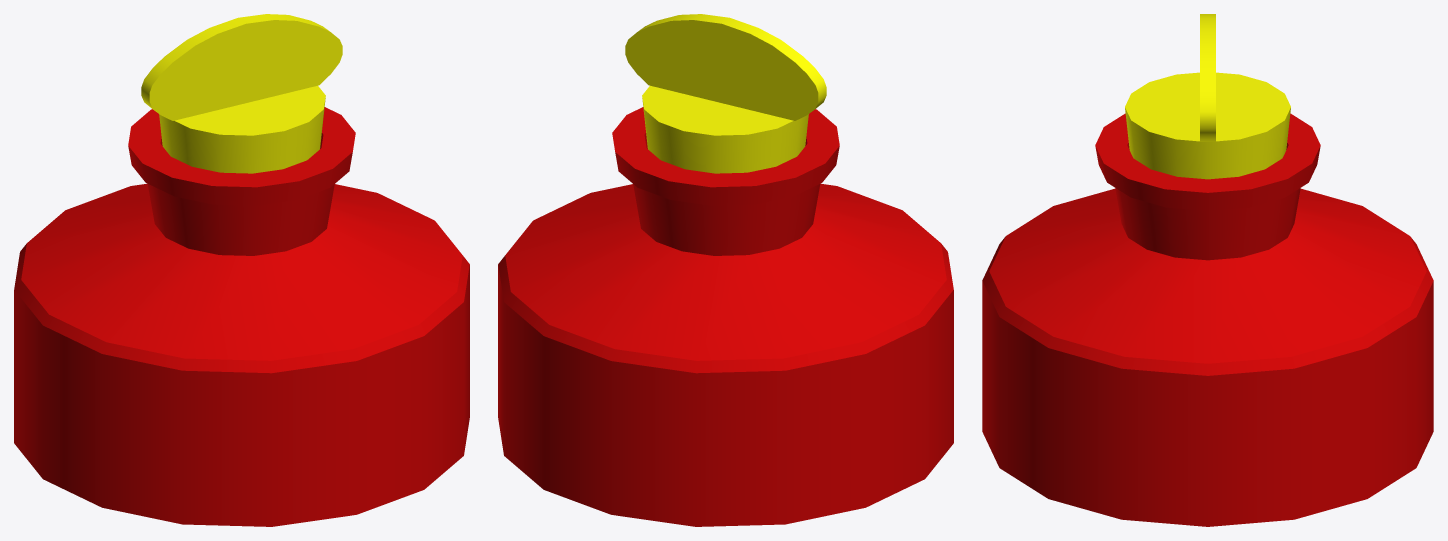
The model's file is Abbie - ChemicalBottle5Red.fbx.
3 views of the same model, side by side, from view 1: azimuth 30°, elevation 25°; view 2: azimuth 150°, elevation 25°; view 3: azimuth 270°, elevation 25° (orthographic).
Parts seen in each view (by area): view 1: bottle5; view 2: bottle5; view 3: bottle5.
Boxes of the visible parts, x1,y1,x2,y2 form: bottle5: [14, 14, 469, 526]; bottle5: [498, 14, 953, 526]; bottle5: [982, 14, 1433, 526].
Size of the model in its own units: 7.03 by 6.92 by 7.03.
